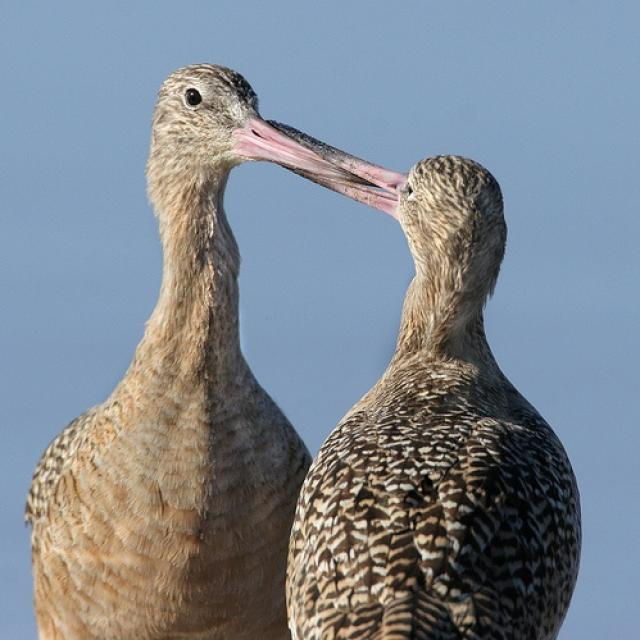bird: (24, 60, 376, 640), (265, 119, 586, 640)
